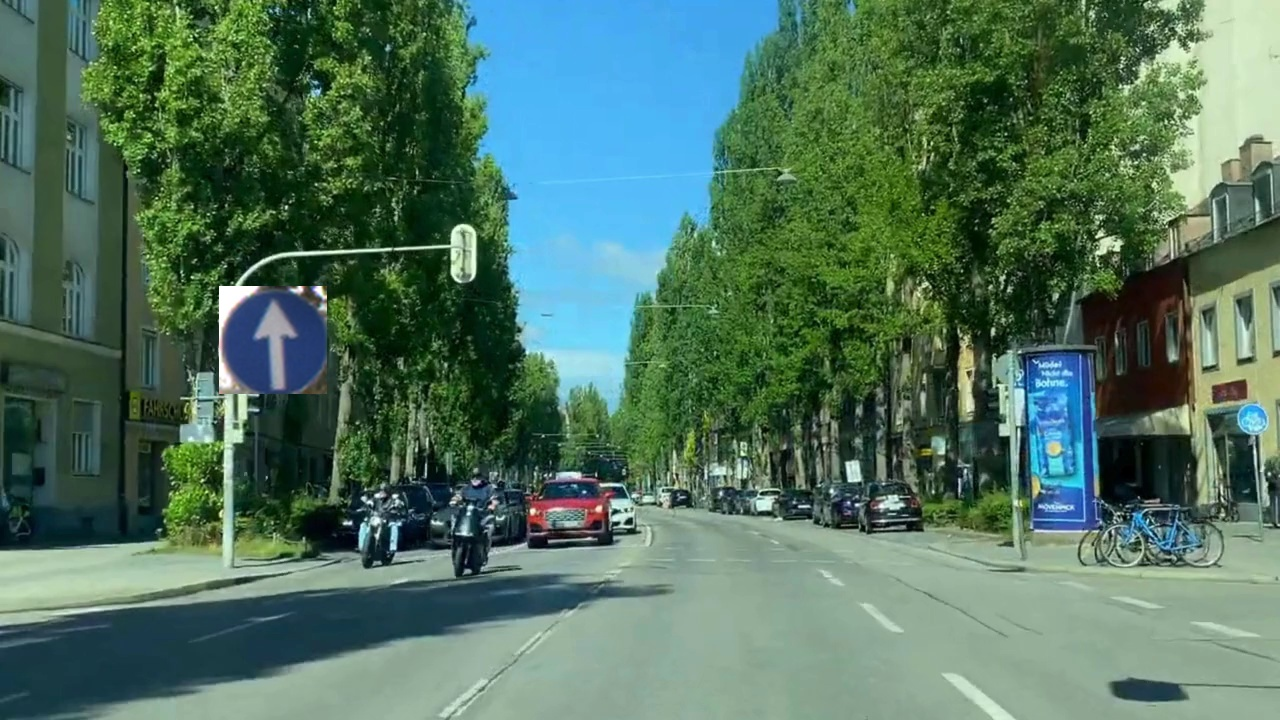Ahead only: (219, 286, 327, 394)
